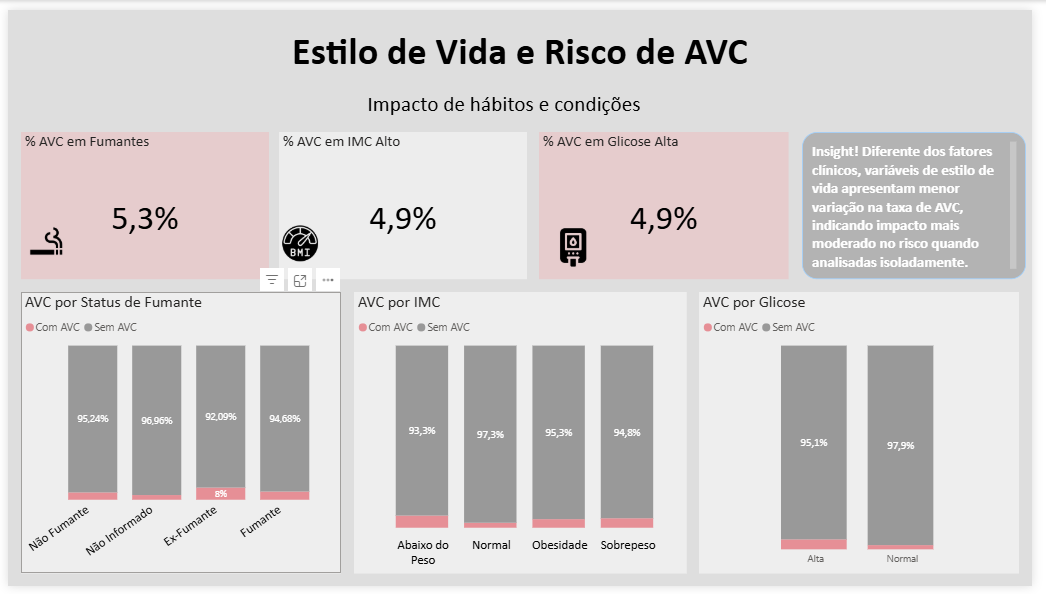

Layout of this report page (visuals, bound fields, positions):
{"tool":"powerbi","page":{"name":"Estilo de Vida","canvas":[1280,720],"ordinal":2},"visuals":[{"type":"card","title":"% AVC em Fumantes","fields":{"Values":["Medidas.% AVC Fumantes"]},"box":[16,152,310,184],"z":0},{"type":"card","title":"% AVC em IMC Alto","fields":{"Values":["Medidas.% AVC em IMC Alto"]},"box":[338.7,152,310,184],"z":1000},{"type":"card","title":"% AVC em Glicose Alta","fields":{"Values":["Medidas.% AVC Glicose Alta"]},"box":[664,152,312,184],"z":3000},{"type":"textbox","box":[0,16,1280,72],"z":4000},{"type":"textbox","box":[300,96,640,48],"z":5000},{"type":"hundredPercentStackedColumnChart","title":"AVC por Status de Fumante","fields":{"Series":["BaseDados.AVC_Desc"],"Category":["BaseDados.Fumantes status_Desc"],"Y":["CountNonNull(BaseDados.Fumantes status_Desc)"]},"box":[16,352,400,352],"z":6000},{"type":"hundredPercentStackedColumnChart","title":"AVC por Glicose","fields":{"Y":["CountNonNull(BaseDados.Faixa Glicose)"],"Series":["BaseDados.AVC_Desc"],"Category":["BaseDados.Faixa Glicose"]},"box":[864,352,400,352],"z":7000},{"type":"textbox","box":[992,152,280,184],"z":9000},{"type":"image","box":[24,264,48,56],"z":10000},{"type":"image","box":[682,269,48,56],"z":11000},{"type":"hundredPercentStackedColumnChart","title":"AVC por IMC","fields":{"Category":["BaseDados.Faixa IMC"],"Series":["BaseDados.AVC_Desc"],"Y":["CountNonNull(BaseDados.Faixa IMC)"]},"box":[432,352,416,352],"z":12000},{"type":"image","box":[341.3,264,48,56],"z":13000}]}

Visuals, with their boxes in screenshot pixels (x1, y1, x2, y2), scaled from the page's 1280x720 canvas onto the 1046x594 screenshot:
"% AVC em Fumantes" card: <region>13, 125, 266, 277</region>
"% AVC em IMC Alto" card: <region>277, 125, 530, 277</region>
"% AVC em Glicose Alta" card: <region>543, 125, 798, 277</region>
textbox: <region>0, 13, 1045, 73</region>
textbox: <region>245, 79, 768, 119</region>
"AVC por Status de Fumante" hundredPercentStackedColumnChart: <region>13, 290, 340, 581</region>
"AVC por Glicose" hundredPercentStackedColumnChart: <region>706, 290, 1033, 581</region>
textbox: <region>811, 125, 1039, 277</region>
image: <region>20, 218, 59, 264</region>
image: <region>557, 222, 597, 268</region>
"AVC por IMC" hundredPercentStackedColumnChart: <region>353, 290, 693, 581</region>
image: <region>279, 218, 318, 264</region>
